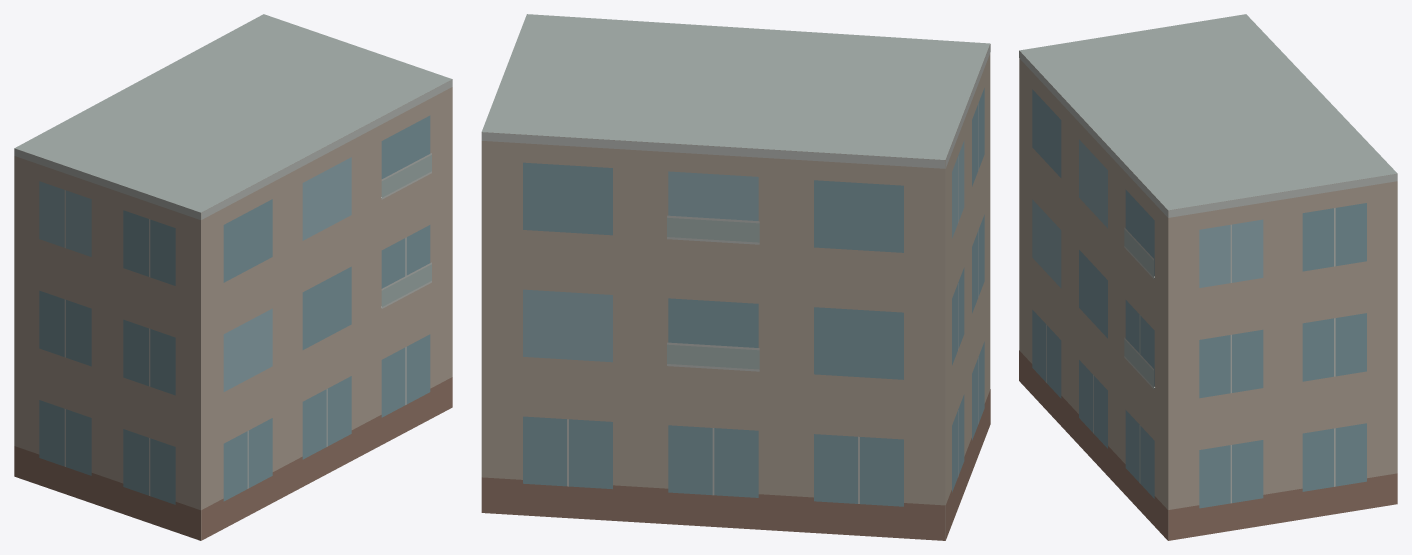
The model's file is survey-upis-32840011.glb.
The picture shows the model from 3 angles, left to right: view 1: azimuth 30°, elevation 25°; view 2: azimuth 150°, elevation 25°; view 3: azimuth 270°, elevation 25°; orthographic projection. The views are drawn at different scales.
Visible parts, largest first — view 1: survey-upis-32840011.tmp; view 2: survey-upis-32840011.tmp; view 3: survey-upis-32840011.tmp.
Part boxes in pixels (left/top/right/bottom): survey-upis-32840011.tmp: left=14, top=14, right=452, bottom=540; survey-upis-32840011.tmp: left=481, top=14, right=990, bottom=540; survey-upis-32840011.tmp: left=1019, top=14, right=1397, bottom=540.
Bounding box in the file's own units: 13.52 × 10.6 × 11.01.
